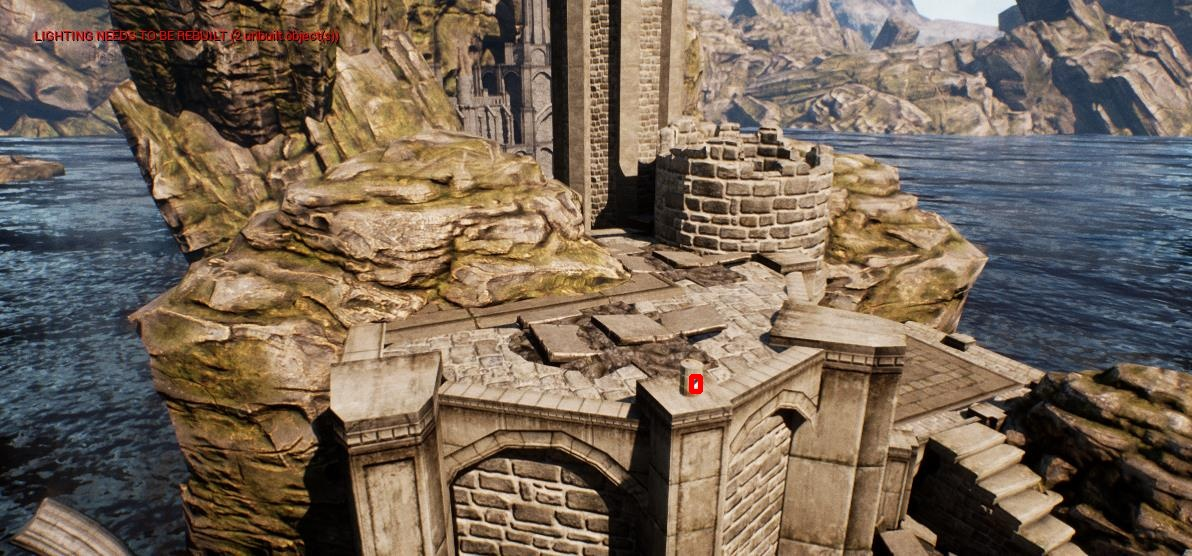nfpa: (691, 376, 700, 391)
